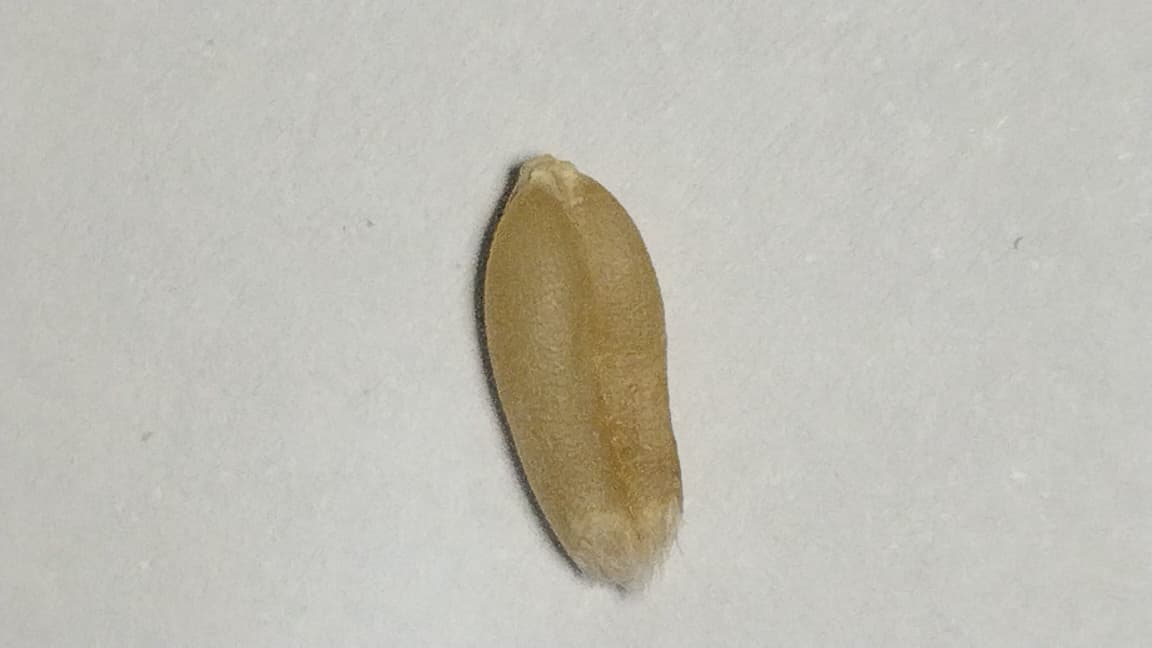healthy: (482, 156, 681, 585)
